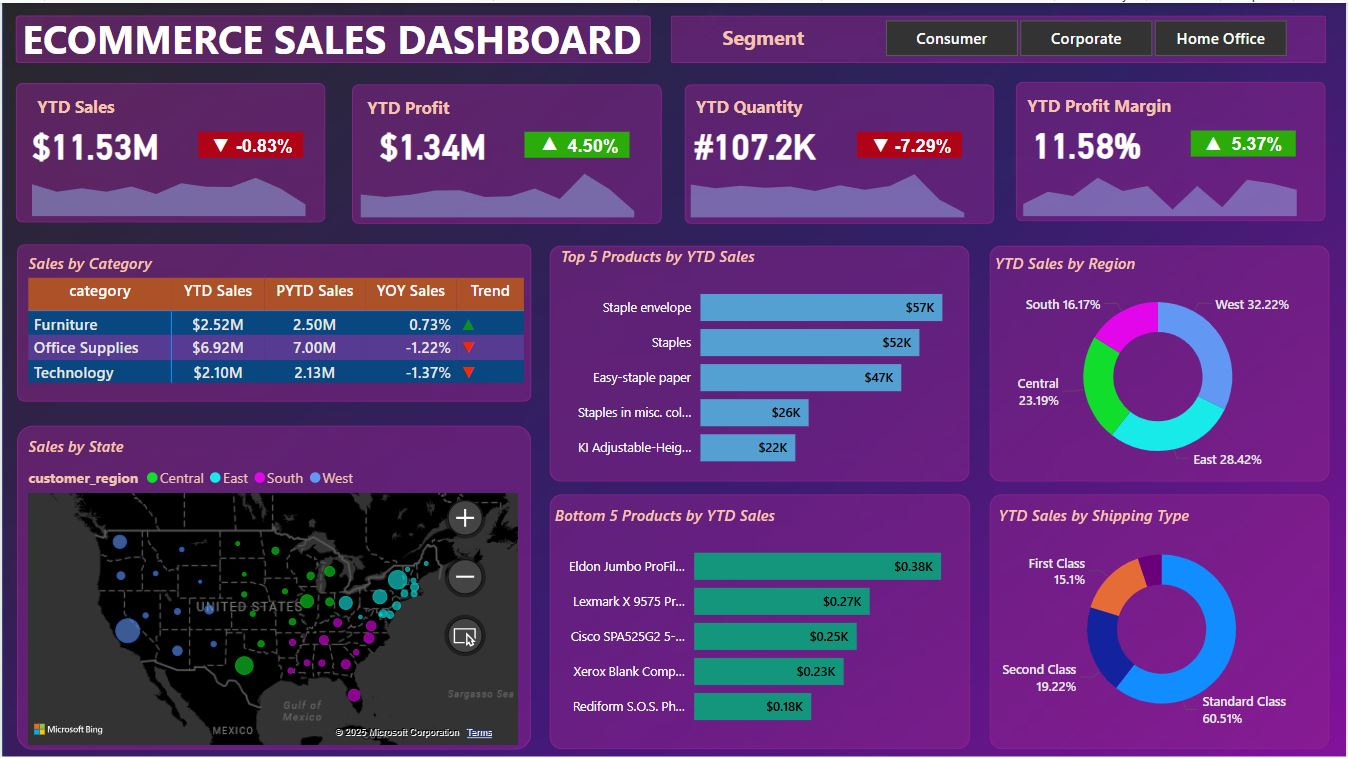

Layout of this report page (visuals, bound fields, positions):
{"tool":"powerbi","page":{"name":"Page 1","canvas":[1280,720],"ordinal":0},"visuals":[{"type":"shape","box":[13.1,11.9,604.8,45.2],"z":0},{"type":"textbox","box":[14.3,3.6,615.5,61.9],"z":1000},{"type":"textbox","box":[13.1,76.2,615.5,61.9],"z":2000},{"type":"shape","box":[13.1,76.2,295,133],"z":3000},{"type":"shape","box":[186.6,122.1,100.2,24.7],"z":4000},{"type":"card","fields":{"Values":["ecommerce_data.YTD Sales"]},"box":[13.7,107,149.6,54.9],"z":5000},{"type":"areaChart","fields":{"Category":["Date Master.Month"],"Y":["Sum(ecommerce_data.sales_per_order)"]},"box":[13.7,146.8,289.5,61.7],"z":6000},{"type":"card","fields":{"Values":["ecommerce_data.YOY Sales"]},"box":[212.7,122.1,74.1,28.8],"z":7000},{"type":"card","fields":{"Values":["ecommerce_data.Sales Icon"]},"box":[189.4,122.1,38.4,28.8],"z":8000},{"type":"textbox","box":[28.8,82.3,98.8,35.7],"z":9000},{"type":"shape","box":[333.4,76.8,295,133.1],"z":10000},{"type":"shape","box":[497.1,122.5,100.2,24.7],"z":11000},{"type":"card","fields":{"Values":["ecommerce_data.YTD Profit"]},"box":[336.2,107,149.6,54.9],"z":12000},{"type":"areaChart","fields":{"Category":["Date Master.Month"],"Y":["Sum(ecommerce_data.profit_per_order)"]},"box":[327.6,147.5,289.5,61.7],"z":13000},{"type":"card","fields":{"Values":["ecommerce_data.YOY Profit"]},"box":[526.6,122.8,74.1,28.8],"z":14000},{"type":"card","fields":{"Values":["ecommerce_data.Profit Icon"]},"box":[502.6,121.1,38.4,28.8],"z":15000},{"type":"textbox","box":[342.7,83,98.8,35.7],"z":16000},{"type":"shape","box":[650.4,76.8,295,133.1],"z":17000},{"type":"shape","box":[814.7,122.8,100.2,24.7],"z":18000},{"type":"card","fields":{"Values":["ecommerce_data.YTD Concatenated Quantity"]},"box":[649.4,107.4,134.5,54.9],"z":19000},{"type":"areaChart","fields":{"Category":["Date Master.Month"],"Y":["Sum(ecommerce_data.order_quantity)"]},"box":[641.8,147.5,289.5,61.7],"z":20000},{"type":"card","fields":{"Values":["ecommerce_data.YOY Quantity"]},"box":[840.8,122.8,74.1,28.8],"z":21000},{"type":"card","fields":{"Values":["ecommerce_data.Quantity Icon"]},"box":[817.5,122.8,38.4,28.8],"z":22000},{"type":"textbox","box":[656.3,82.7,119.4,35.7],"z":23000},{"type":"shape","box":[966,75.5,295,133.1],"z":24000},{"type":"shape","box":[1131.7,121.4,100.2,24.7],"z":25000},{"type":"card","fields":{"Values":["ecommerce_data.YTD Profit Margin"]},"box":[958.8,106.3,149.6,54.9],"z":26000},{"type":"areaChart","fields":{"Category":["Date Master.Month"],"Y":["ecommerce_data.Profit Margin"]},"box":[958.8,146.1,289.5,61.7],"z":27000},{"type":"card","fields":{"Values":["ecommerce_data.YOY Profit Margin"]},"box":[1157.8,121.4,74.1,28.8],"z":28000},{"type":"card","fields":{"Values":["ecommerce_data.Profit Margin Icon"]},"box":[1134.5,121.4,38.4,28.8],"z":29000},{"type":"textbox","box":[970.9,81,157.8,35.7],"z":30000},{"type":"shape","box":[13.7,230.2,490,150],"z":31000},{"type":"pivotTable","title":"Sales by Category","fields":{"Rows":["ecommerce_data.category_name"],"Values":["ecommerce_data.YTD Sales","ecommerce_data.PYTD Sales","ecommerce_data.YOY Sales","ecommerce_data.Sales Icon"]},"box":[20.6,237,483,142.7],"z":32000},{"type":"shape","box":[13.7,402.1,489.9,308.7],"z":32001},{"type":"map","title":"Sales by State","fields":{"Y":["us_state_long_lat_codes.latitude"],"X":["us_state_long_lat_codes.longitude"],"Size":["ecommerce_data.YTD Sales"],"Series":["ecommerce_data.customer_region"]},"box":[20.6,411.7,476.2,299.1],"z":32002},{"type":"shape","box":[521.4,230.5,400,225],"z":32003},{"type":"shape","box":[521.4,467.9,400.7,242.9],"z":32004},{"type":"barChart","title":"Top 5 Products by YTD Sales","fields":{"Category":["ecommerce_data.product_name"],"Y":["ecommerce_data.YTD Sales"]},"box":[526.9,230.5,418.5,225],"z":32005},{"type":"barChart","title":"Bottom 5 Products by YTD Sales","fields":{"Category":["ecommerce_data.product_name"],"Y":["ecommerce_data.YTD Sales"]},"box":[521.4,477.5,418.5,225],"z":32006},{"type":"shape","box":[940,230.5,323.8,225],"z":32007},{"type":"shape","box":[940,467.9,323.8,242.9],"z":32008},{"type":"donutChart","title":"YTD Sales by Region","fields":{"Y":["ecommerce_data.YTD Sales"],"Category":["ecommerce_data.customer_region"]},"box":[940,237.4,321.1,218.2],"z":32009},{"type":"donutChart","title":"YTD Sales by Shipping Type","fields":{"Y":["ecommerce_data.YTD Sales"],"Category":["ecommerce_data.shipping_type"]},"box":[944.1,477.5,321.1,218.2],"z":32010},{"type":"shape","box":[636.7,12.3,624.4,45.3],"z":32011},{"type":"slicer","fields":{"Values":["ecommerce_data.customer_segment"]},"box":[815.1,9.6,432.2,48],"z":32012},{"type":"textbox","box":[680.6,15.1,111.1,35.7],"z":32013}]}

Visuals, with their boxes in screenshot pixels (x1, y1, x2, y2), scaled from the page's 1280x720 canvas onto the 1348x758 screenshot:
shape: 14, 13, 651, 60
textbox: 15, 4, 663, 69
textbox: 14, 80, 662, 145
shape: 14, 80, 324, 220
shape: 197, 129, 302, 155
card - ecommerce_data.YTD Sales: 14, 113, 172, 170
areaChart - Date Master.Month x Sum(ecommerce_data.sales_per_order): 14, 155, 319, 220
card - ecommerce_data.YOY Sales: 224, 129, 302, 159
card - ecommerce_data.Sales Icon: 199, 129, 240, 159
textbox: 30, 87, 134, 124
shape: 351, 81, 662, 221
shape: 524, 129, 629, 155
card - ecommerce_data.YTD Profit: 354, 113, 512, 170
areaChart - Date Master.Month x Sum(ecommerce_data.profit_per_order): 345, 155, 650, 220
card - ecommerce_data.YOY Profit: 555, 129, 633, 160
card - ecommerce_data.Profit Icon: 529, 127, 570, 158
textbox: 361, 87, 465, 125
shape: 685, 81, 996, 221
shape: 858, 129, 964, 155
card - ecommerce_data.YTD Concatenated Quantity: 684, 113, 826, 171
areaChart - Date Master.Month x Sum(ecommerce_data.order_quantity): 676, 155, 981, 220
card - ecommerce_data.YOY Quantity: 885, 129, 964, 160
card - ecommerce_data.Quantity Icon: 861, 129, 901, 160
textbox: 691, 87, 817, 125
shape: 1017, 79, 1328, 220
shape: 1192, 128, 1297, 154
card - ecommerce_data.YTD Profit Margin: 1010, 112, 1167, 170
areaChart - Date Master.Month x ecommerce_data.Profit Margin: 1010, 154, 1315, 219
card - ecommerce_data.YOY Profit Margin: 1219, 128, 1297, 158
card - ecommerce_data.Profit Margin Icon: 1195, 128, 1235, 158
textbox: 1022, 85, 1189, 123
shape: 14, 242, 530, 400
"Sales by Category" pivotTable: 22, 250, 530, 400
shape: 14, 423, 530, 748
"Sales by State" map: 22, 433, 523, 748
shape: 549, 243, 970, 480
shape: 549, 493, 971, 748
"Top 5 Products by YTD Sales" barChart: 555, 243, 996, 480
"Bottom 5 Products by YTD Sales" barChart: 549, 503, 990, 740
shape: 990, 243, 1331, 480
shape: 990, 493, 1331, 748
"YTD Sales by Region" donutChart: 990, 250, 1328, 480
"YTD Sales by Shipping Type" donutChart: 994, 503, 1332, 732
shape: 671, 13, 1328, 61
slicer - ecommerce_data.customer_segment: 858, 10, 1314, 61
textbox: 717, 16, 834, 53
